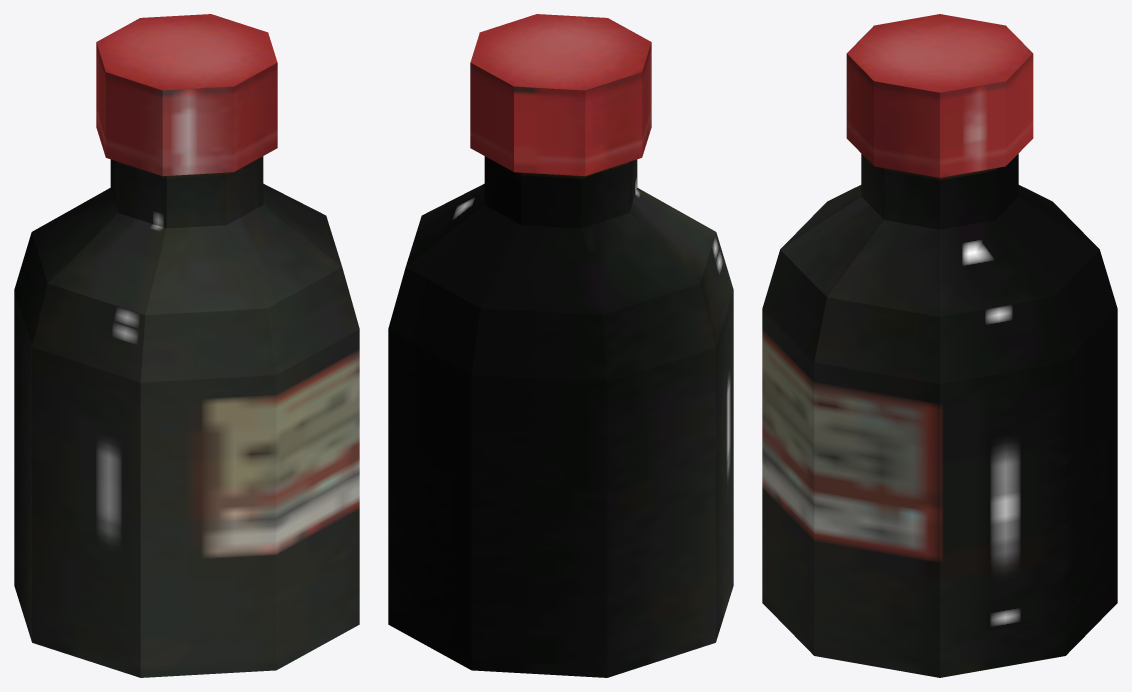
Rendered from jar_small_8.fbx.
3 views of the same model, side by side, from view 1: azimuth 30°, elevation 25°; view 2: azimuth 150°, elevation 25°; view 3: azimuth 270°, elevation 25° (orthographic).
Visible parts, largest first — view 1: mesh_0; view 2: mesh_0; view 3: mesh_0.
Boxes of the visible parts, x1,y1,x2,y2 form: mesh_0: (14, 14, 359, 677); mesh_0: (388, 14, 733, 677); mesh_0: (762, 14, 1117, 677).
Bounding box in the file's own units: 5.87 × 10 × 5.87.
Materials: 1 (1 with a texture image).
